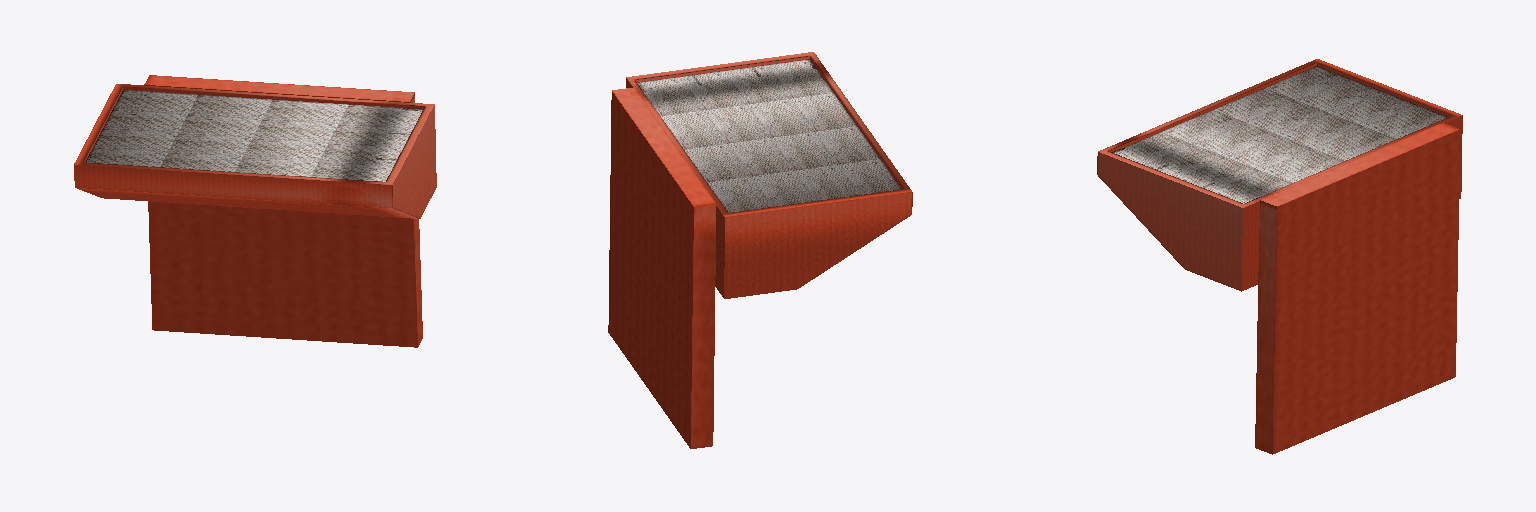
3 renders of one model, left to right at view 1: azimuth 30°, elevation 25°; view 2: azimuth 150°, elevation 25°; view 3: azimuth 270°, elevation 25°, orthographic.
Bounding box in the file's own units: 3.65 × 2.7 × 3.54.
Materials: 1 (1 with a texture image).